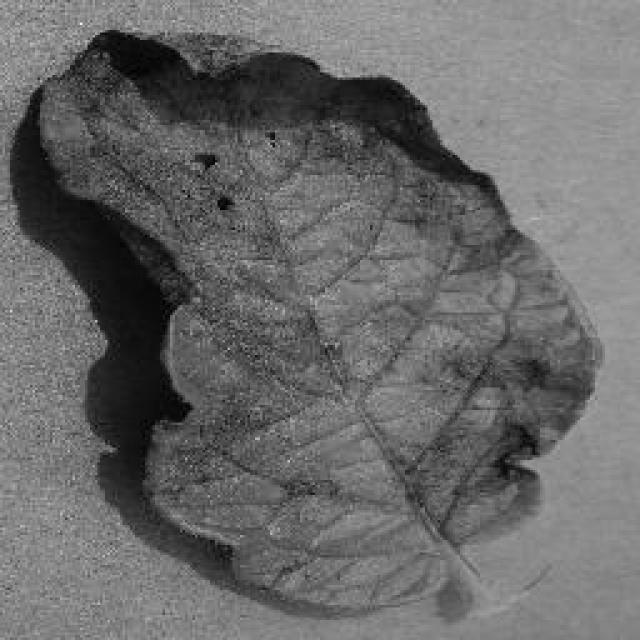Potato: (27, 25, 605, 620)
